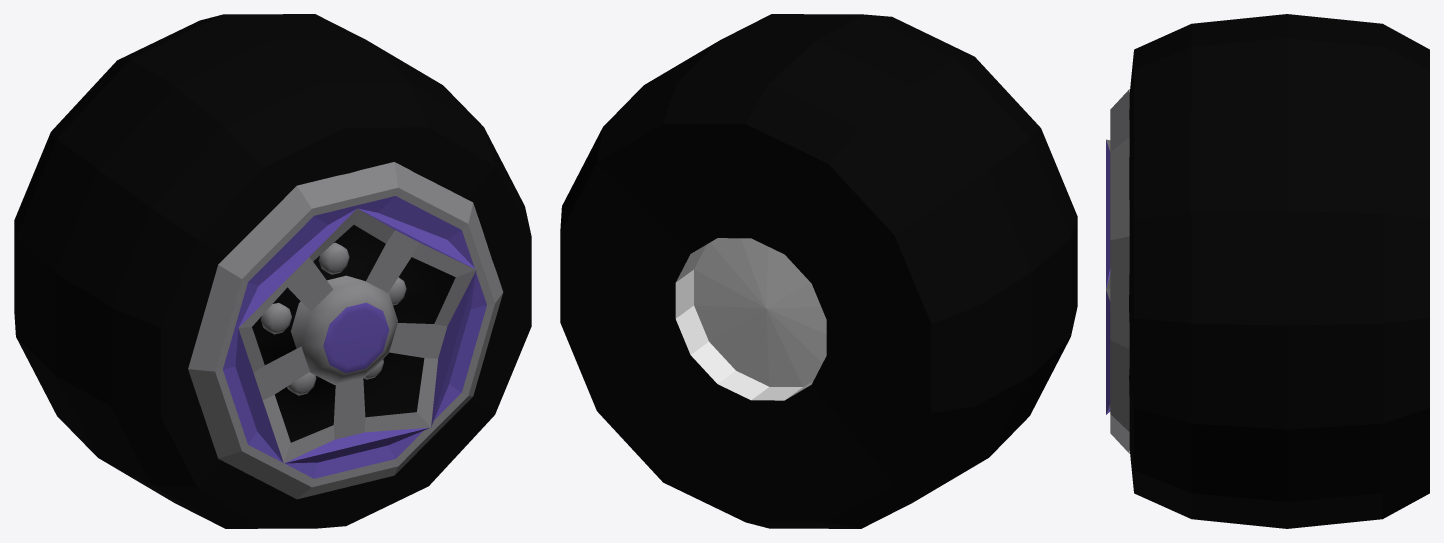
The model's file is wheel28.fbx.
3 renders of one model, left to right at view 1: azimuth 30°, elevation 25°; view 2: azimuth 150°, elevation 25°; view 3: azimuth 270°, elevation 25°, orthographic.
Visible parts, largest first — view 1: lanot_wheel27_L; view 2: lanot_wheel27_L; view 3: lanot_wheel27_L.
Part boxes in pixels (left/top/right/bottom): lanot_wheel27_L: left=14, top=14, right=531, bottom=528; lanot_wheel27_L: left=560, top=14, right=1077, bottom=528; lanot_wheel27_L: left=1106, top=14, right=1429, bottom=528.
Bounding box in the file's own units: 152 × 156 × 98.07.
